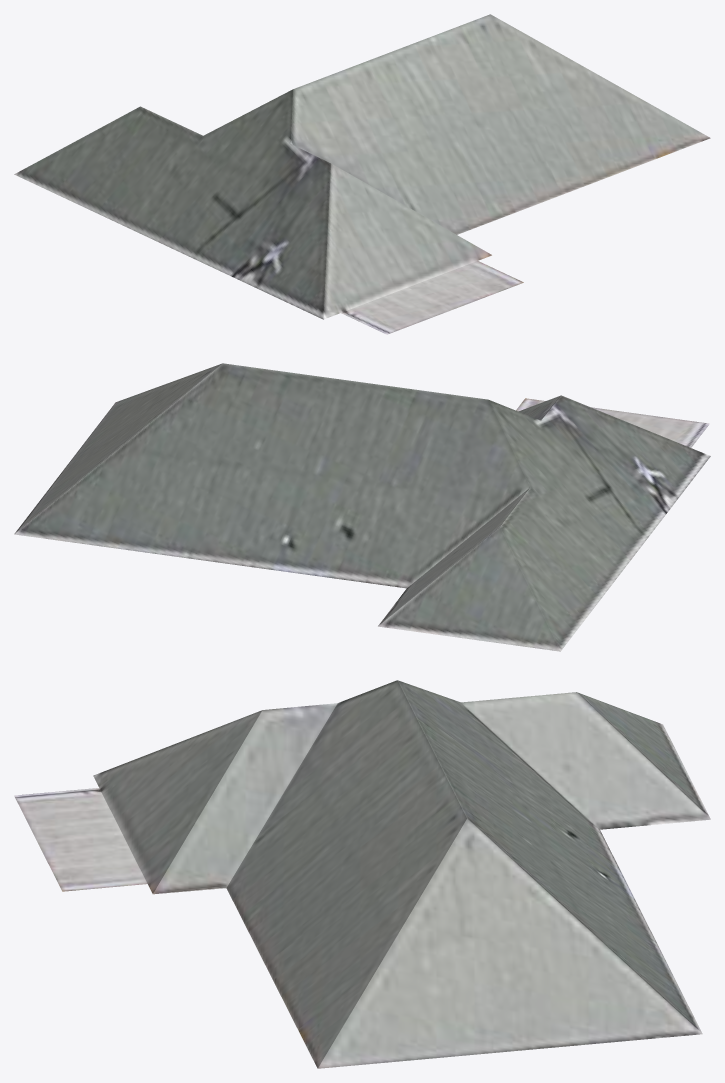
Rendered from BK39_500_017028_0088_roof.obj.
The picture shows the model from 3 angles, top to bottom: view 1: azimuth 30°, elevation 25°; view 2: azimuth 150°, elevation 25°; view 3: azimuth 270°, elevation 25°; orthographic projection. The views are drawn at different scales.
Parts seen in each view (by area): view 1: BK39_500_017028_0088_roof; view 2: BK39_500_017028_0088_roof; view 3: BK39_500_017028_0088_roof.
Boxes of the visible parts, box(x1,y1,x2,y2) form: BK39_500_017028_0088_roof: box(14, 14, 710, 334); BK39_500_017028_0088_roof: box(14, 363, 710, 651); BK39_500_017028_0088_roof: box(14, 680, 710, 1068).
Size of the model in its own units: 342 by 70 by 292.
1 material, 1 textured.
